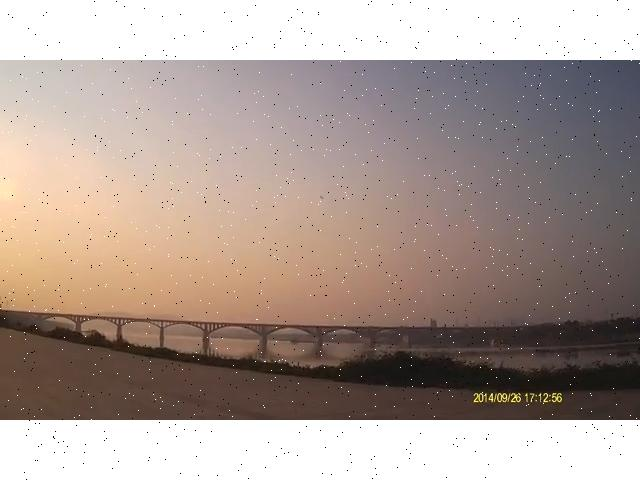Anti-Drone: (315, 193, 331, 205)
